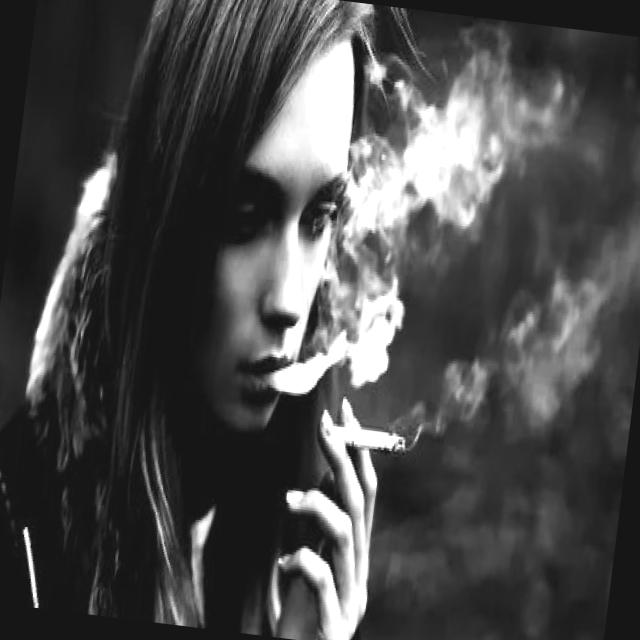cigarette: (312, 414, 413, 471)
